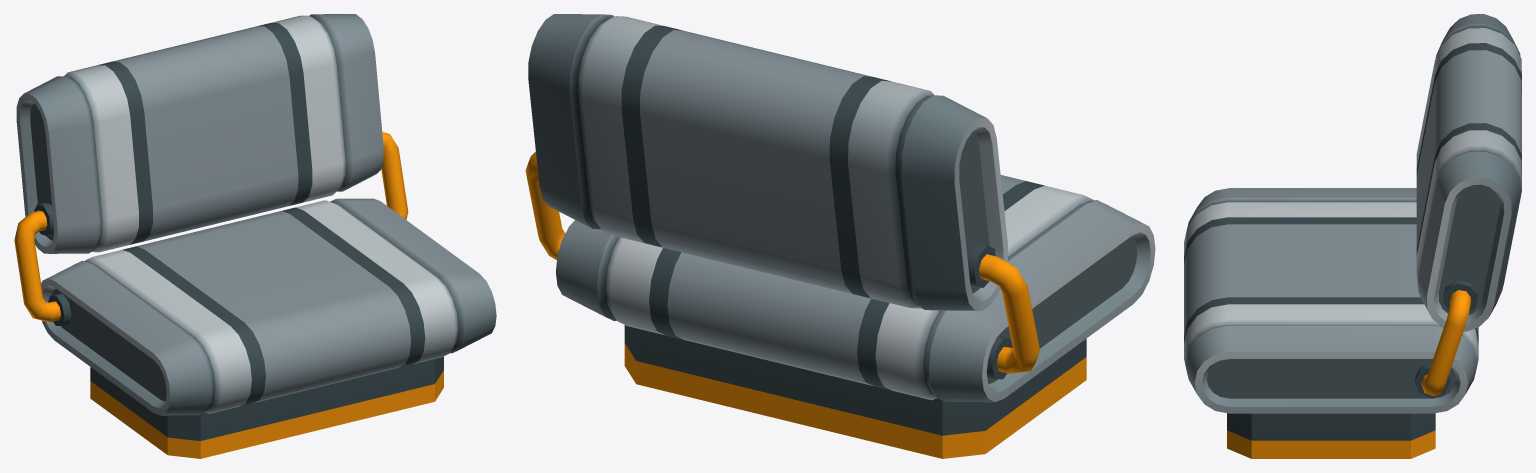
File: Mini_sofa_005.glb
3 renders of one model, left to right at view 1: azimuth 30°, elevation 25°; view 2: azimuth 150°, elevation 25°; view 3: azimuth 270°, elevation 25°, orthographic. The views are drawn at different scales.
Visible parts, largest first — view 1: Mini_sofa_005; view 2: Mini_sofa_005; view 3: Mini_sofa_005.
Boxes of the visible parts, box(x1,y1,x2,y2) form: Mini_sofa_005: box(14, 14, 496, 458); Mini_sofa_005: box(525, 14, 1155, 458); Mini_sofa_005: box(1184, 14, 1521, 458).
Size of the model in its own units: 1.32 by 0.9747 by 0.9851.
1 material, 1 textured.
